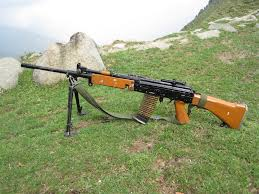gun: (18, 60, 248, 136)
